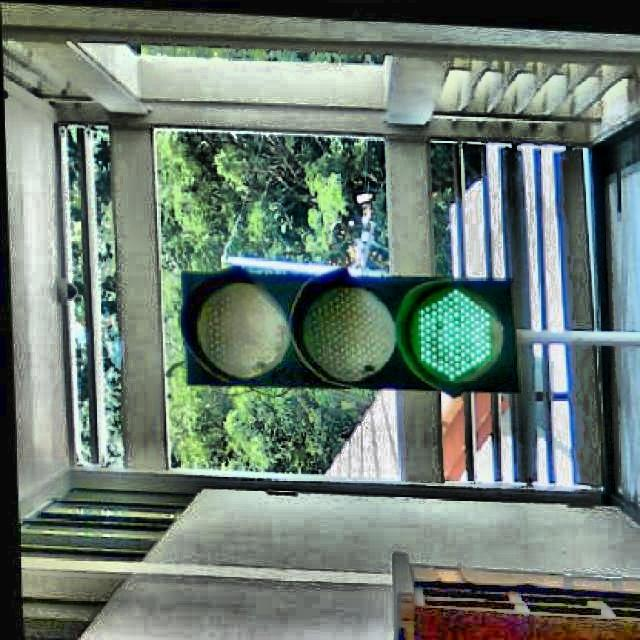green: (181, 269, 520, 390)
